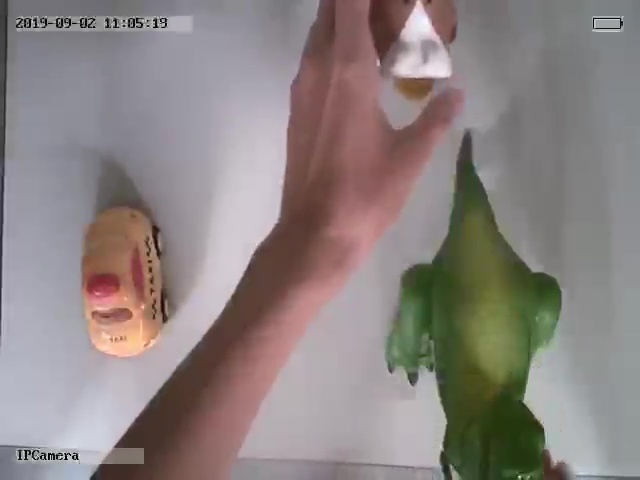car: (77, 201, 173, 357)
